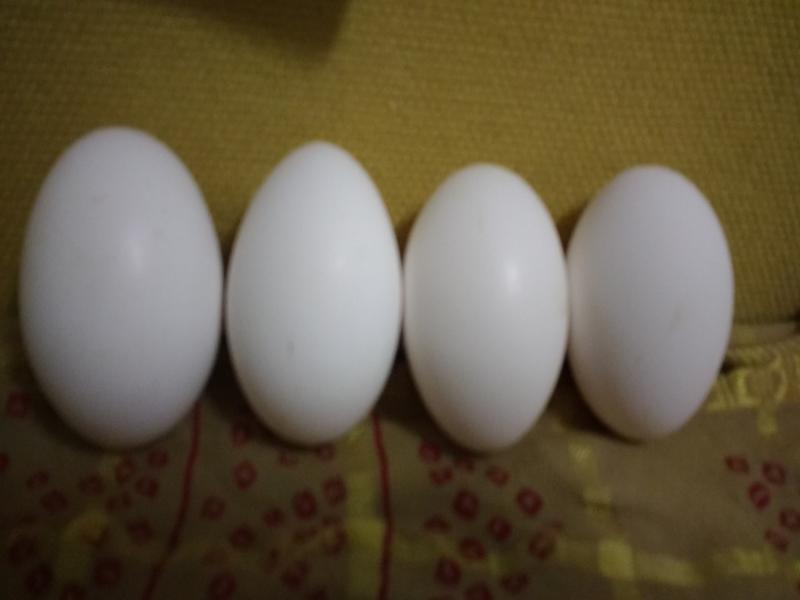egg: (221, 145, 403, 443)
